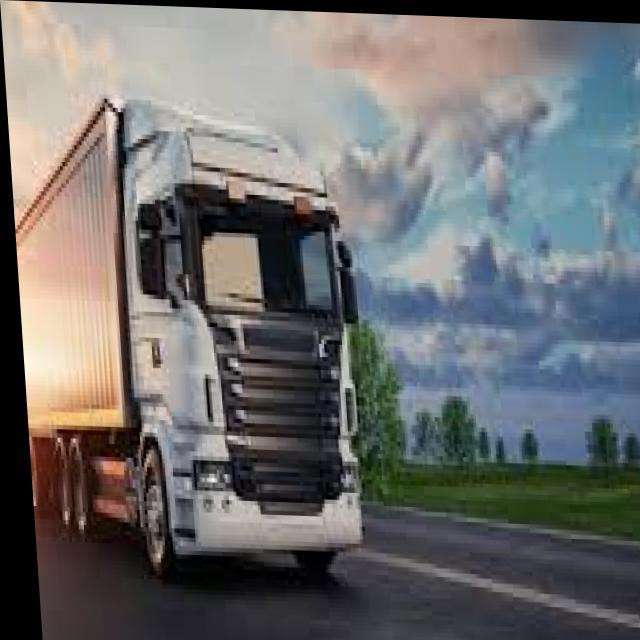covered: (4, 82, 368, 585)
